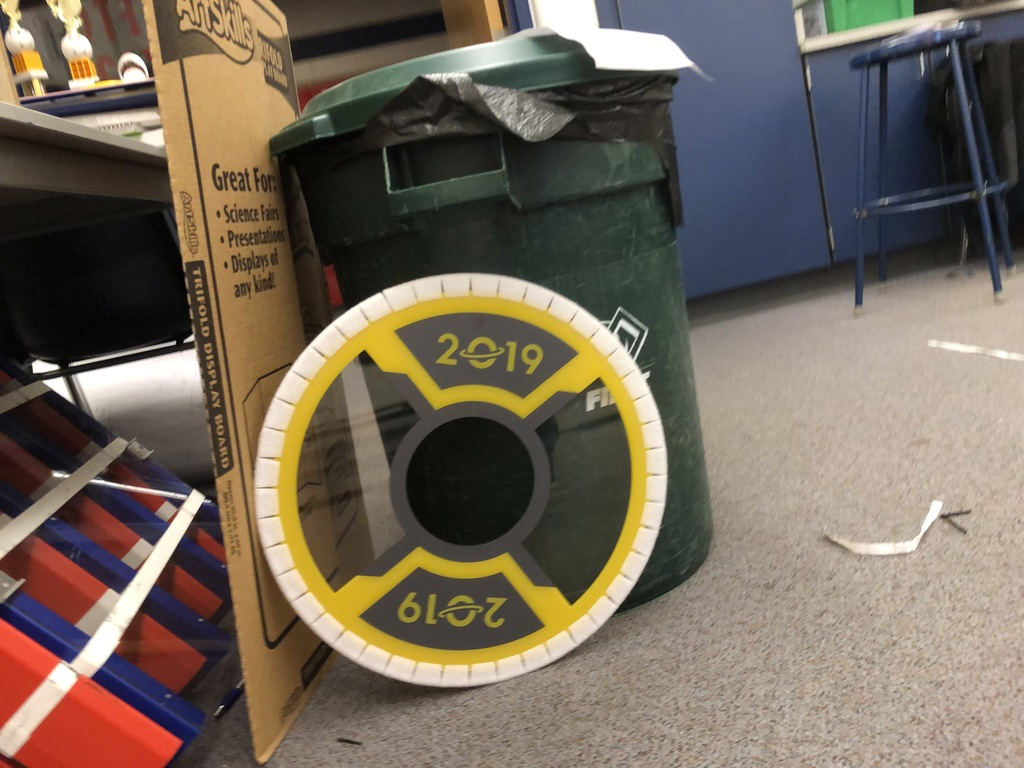hatch_panel: (252, 252, 695, 703)
